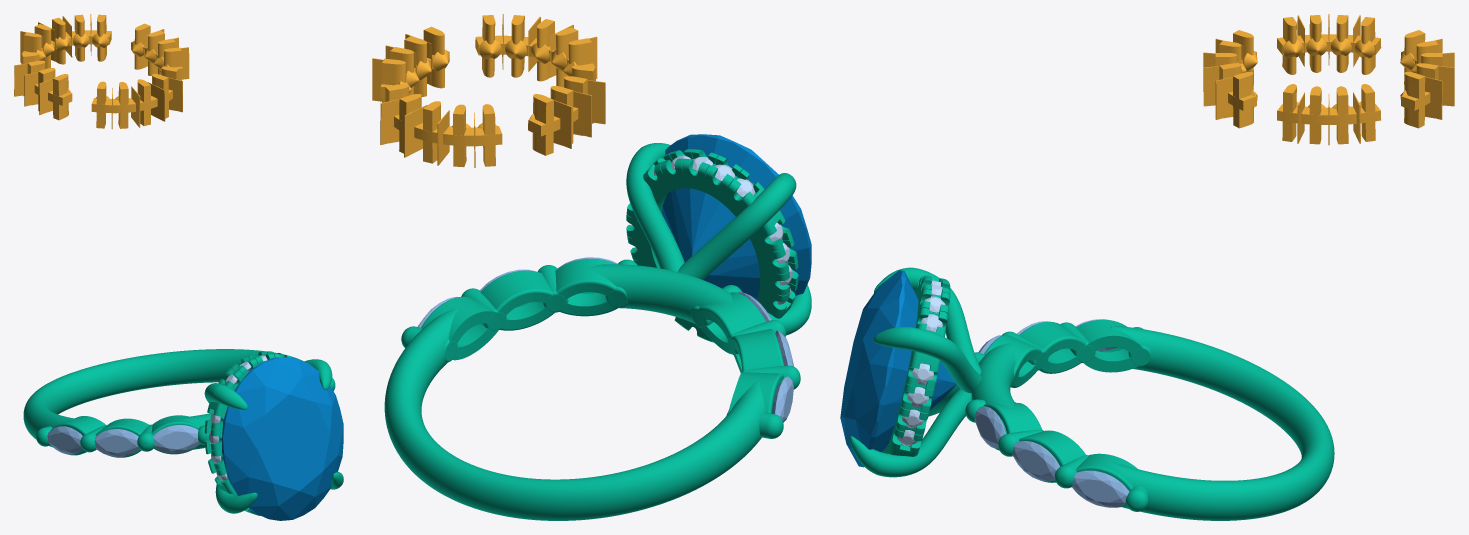
The picture shows the model from 3 angles, left to right: view 1: azimuth 30°, elevation 25°; view 2: azimuth 150°, elevation 25°; view 3: azimuth 270°, elevation 25°; orthographic projection. The views are drawn at different scales.
Visible parts, largest first — view 1: Diamond_Oval, VR553(base).3dm, Micro Pave Cut Channel Cutter (×11), Diamond_Marquise (×3), Bezel (×3), Channel Cutter; view 2: VR553(base).3dm, Bezel (×6), Micro Pave Cut Channel Cutter (×18), Diamond_Oval, Channel Cutter (×3), Diamond_Marquise; view 3: VR553(base).3dm, Diamond_Oval, Bezel (×6), Diamond_Marquise (×3), Micro Pave Cut Channel Cutter (×2), Channel Cutter.
Boxes of the visible parts, x1,y1,x2,y2 form: Diamond_Oval: (222,357,343,520); VR553(base).3dm: (23,349,343,515); Micro Pave Cut Channel Cutter (×11): (14,17,182,128); Diamond_Marquise (×3): (47,425,199,456); Bezel (×3): (50,415,200,457); Channel Cutter: (91,89,172,113); VR553(base).3dm: (384,143,811,520); Bezel (×6): (421,259,784,413); Micro Pave Cut Channel Cutter (×18): (380,15,605,167); Diamond_Oval: (662,134,811,299); Channel Cutter (×3): (393,35,594,146); Diamond_Marquise: (772,376,793,422); VR553(base).3dm: (850,267,1334,520); Diamond_Oval: (840,270,956,467); Bezel (×6): (984,319,1142,507); Diamond_Marquise (×3): (974,406,1129,507); Micro Pave Cut Channel Cutter (×2): (1233,72,1425,128); Channel Cutter: (1277,103,1381,124).
Bounding box in the file's own units: 2.4 × 2.74 × 3.64.
